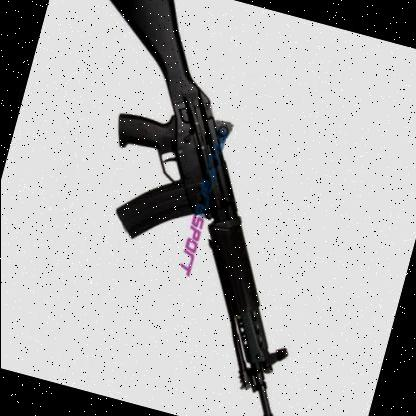rifle: (1, 0, 403, 416)
